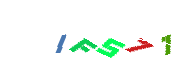1: (114, 0, 194, 80)
7: (100, 0, 180, 80)
F: (56, 0, 136, 80)
I: (53, 0, 133, 80)
S: (59, 0, 139, 80)
